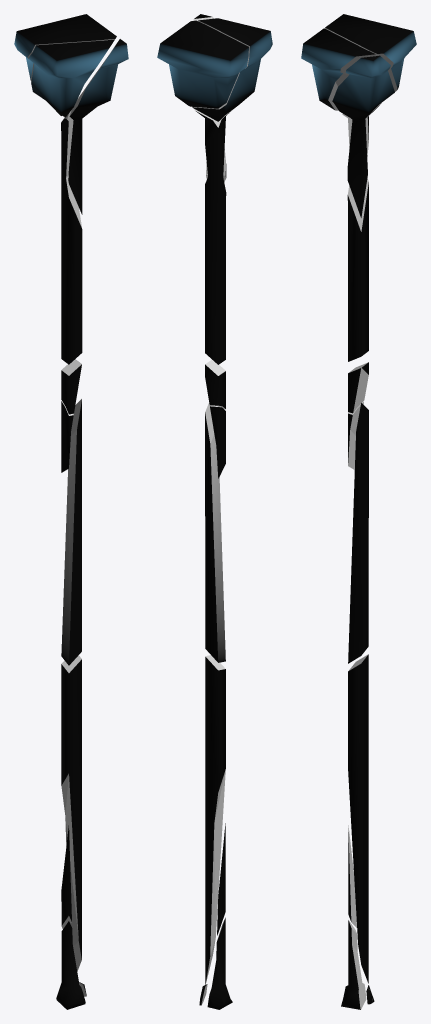
Rendered from Street Lights(2).glb.
The picture shows the model from 3 angles, left to right: view 1: azimuth 30°, elevation 25°; view 2: azimuth 150°, elevation 25°; view 3: azimuth 330°, elevation 25°; orthographic projection.
Visible parts, largest first — view 1: Root.010, Root.011, Root.004, Root.001, Root.005, Root.007, Root, Root.003, Root.006, Root.009; view 2: Root.007, Root.010, Root.011, Root.004, Root.001, Root, Root.003, Root.009, Root.006; view 3: Root.010, Root.005, Root.004, Root.011, Root.007, Root.001, Root, Root.003, Root.006, Root.009.
Part boxes in pixels (x1=…): Root.010: x1=61, y1=655, x2=81, y2=971; Root.011: x1=61, y1=92, x2=82, y2=364; Root.004: x1=61, y1=399, x2=81, y2=665; Root.001: x1=28, y1=39, x2=114, y2=117; Root.005: x1=68, y1=39, x2=128, y2=214; Root.007: x1=14, y1=14, x2=116, y2=80; Root: x1=56, y1=921, x2=85, y2=1009; Root.003: x1=61, y1=359, x2=81, y2=414; Root.006: x1=61, y1=825, x2=71, y2=928; Root.009: x1=61, y1=400, x2=73, y2=472; Root.007: x1=157, y1=20, x2=248, y2=108; Root.010: x1=205, y1=655, x2=225, y2=985; Root.011: x1=194, y1=109, x2=231, y2=364; Root.004: x1=205, y1=402, x2=225, y2=662; Root.001: x1=192, y1=18, x2=272, y2=121; Root: x1=207, y1=917, x2=232, y2=1009; Root.003: x1=205, y1=360, x2=225, y2=409; Root.009: x1=210, y1=406, x2=225, y2=478; Root.006: x1=217, y1=823, x2=225, y2=935; Root.010: x1=348, y1=654, x2=368, y2=983; Root.005: x1=332, y1=55, x2=394, y2=217; Root.004: x1=348, y1=403, x2=368, y2=663; Root.011: x1=342, y1=103, x2=381, y2=361; Root.007: x1=325, y1=14, x2=416, y2=91; Root.001: x1=301, y1=28, x2=375, y2=110; Root: x1=341, y1=920, x2=366, y2=1009; Root.003: x1=348, y1=362, x2=368, y2=413; Root.006: x1=348, y1=825, x2=356, y2=927; Root.009: x1=348, y1=401, x2=363, y2=469.
Size of the model in its own units: 0.2001 by 2.44 by 0.1983.
